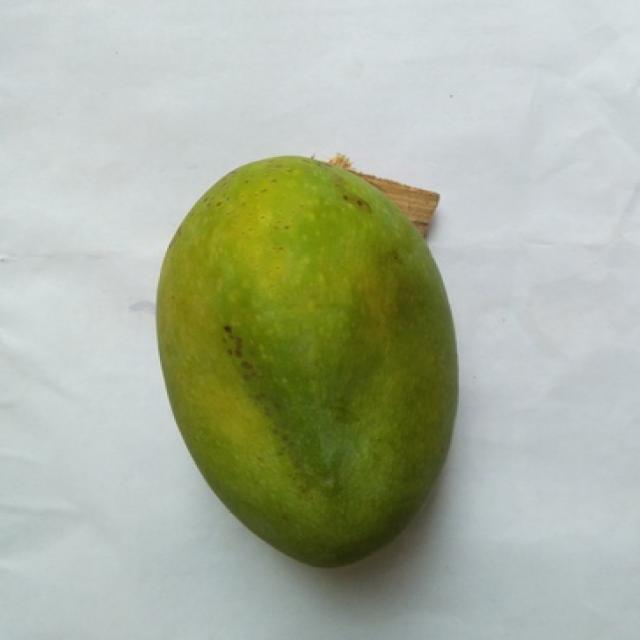Mango: (156, 157, 452, 564)
